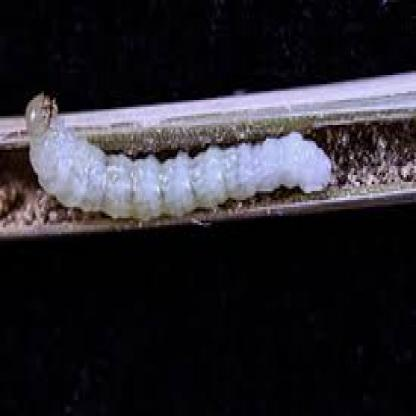sawfly: (21, 89, 341, 227)
